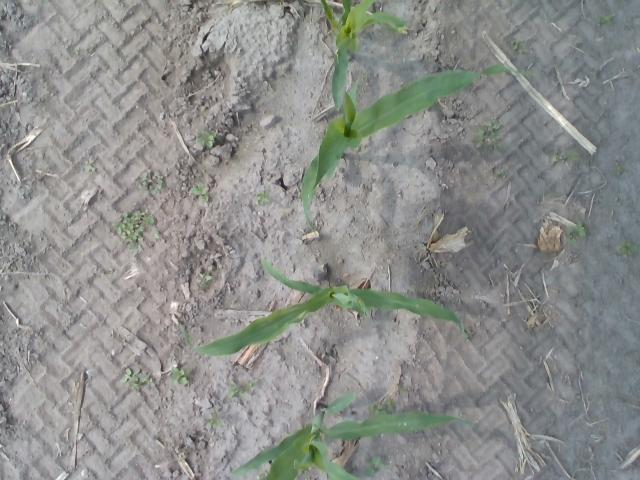Maize: (300, 65, 537, 237), (180, 258, 460, 358), (231, 391, 476, 480), (318, 0, 408, 112)
Weeds: (114, 208, 156, 254), (472, 120, 504, 152), (120, 368, 152, 390), (139, 168, 165, 194), (228, 378, 255, 399), (567, 221, 586, 246), (367, 399, 394, 416), (190, 181, 210, 202), (194, 130, 216, 148), (364, 457, 384, 476), (170, 368, 191, 386), (206, 410, 226, 428), (509, 37, 528, 54), (616, 242, 639, 255), (196, 273, 212, 288), (256, 188, 270, 204), (549, 148, 563, 163), (492, 166, 508, 178), (460, 322, 470, 340), (566, 149, 580, 161), (598, 13, 612, 24), (83, 160, 95, 171), (615, 163, 623, 175), (258, 472, 268, 480), (396, 386, 407, 392), (154, 230, 160, 238)
